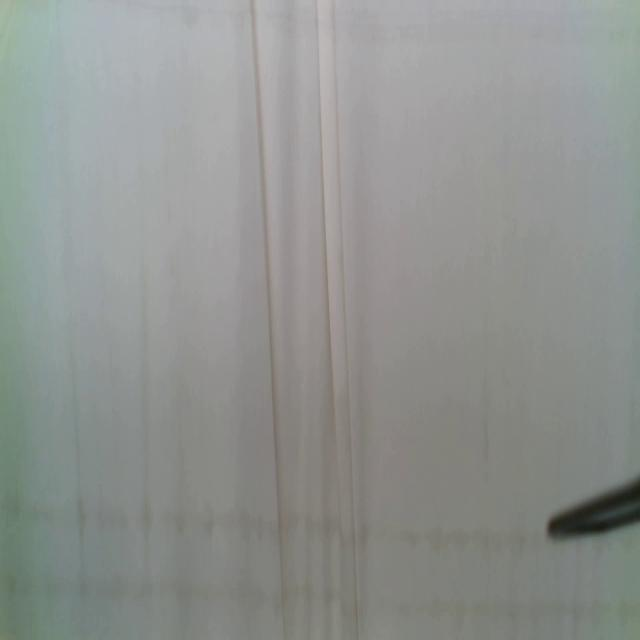color bleeding: (0, 486, 544, 564), (1, 569, 640, 629)
crease: (316, 0, 362, 630), (250, 1, 288, 639)
